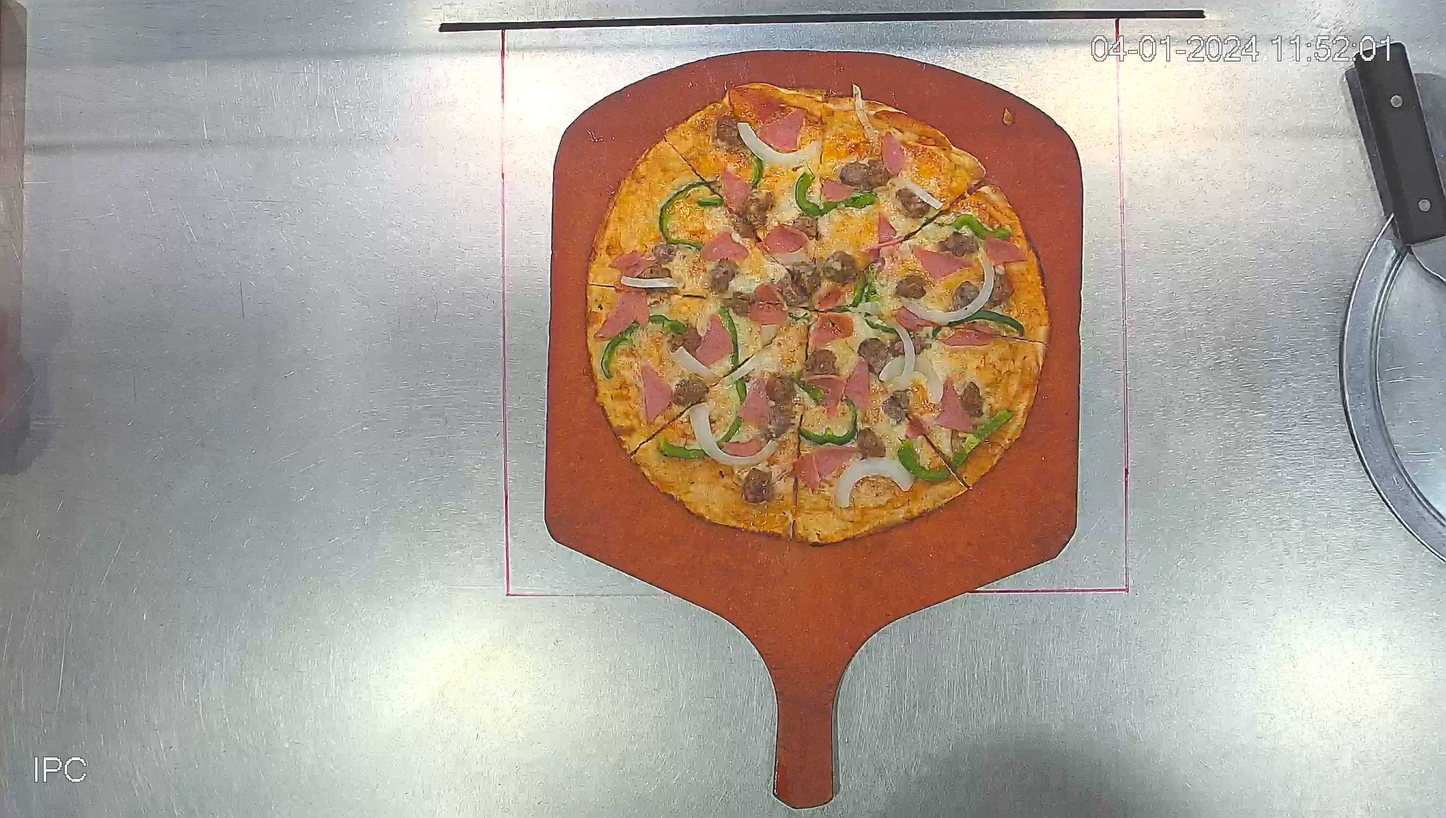hawaiian: (585, 81, 1050, 546)
